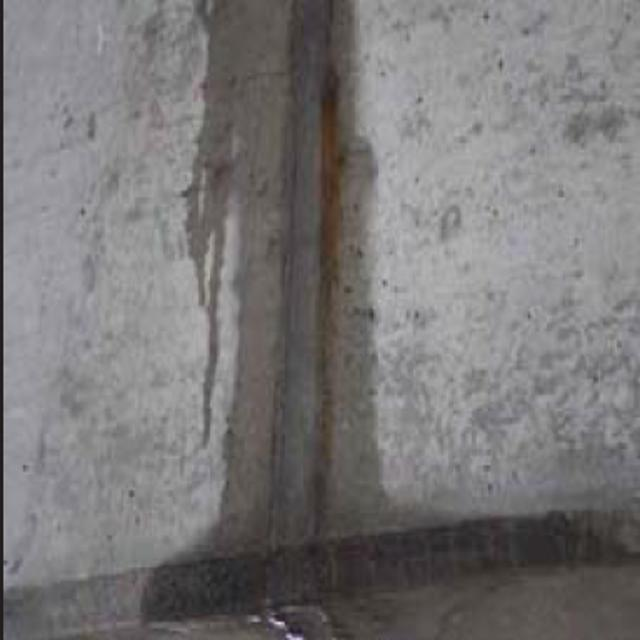leakage: (178, 10, 423, 607)
